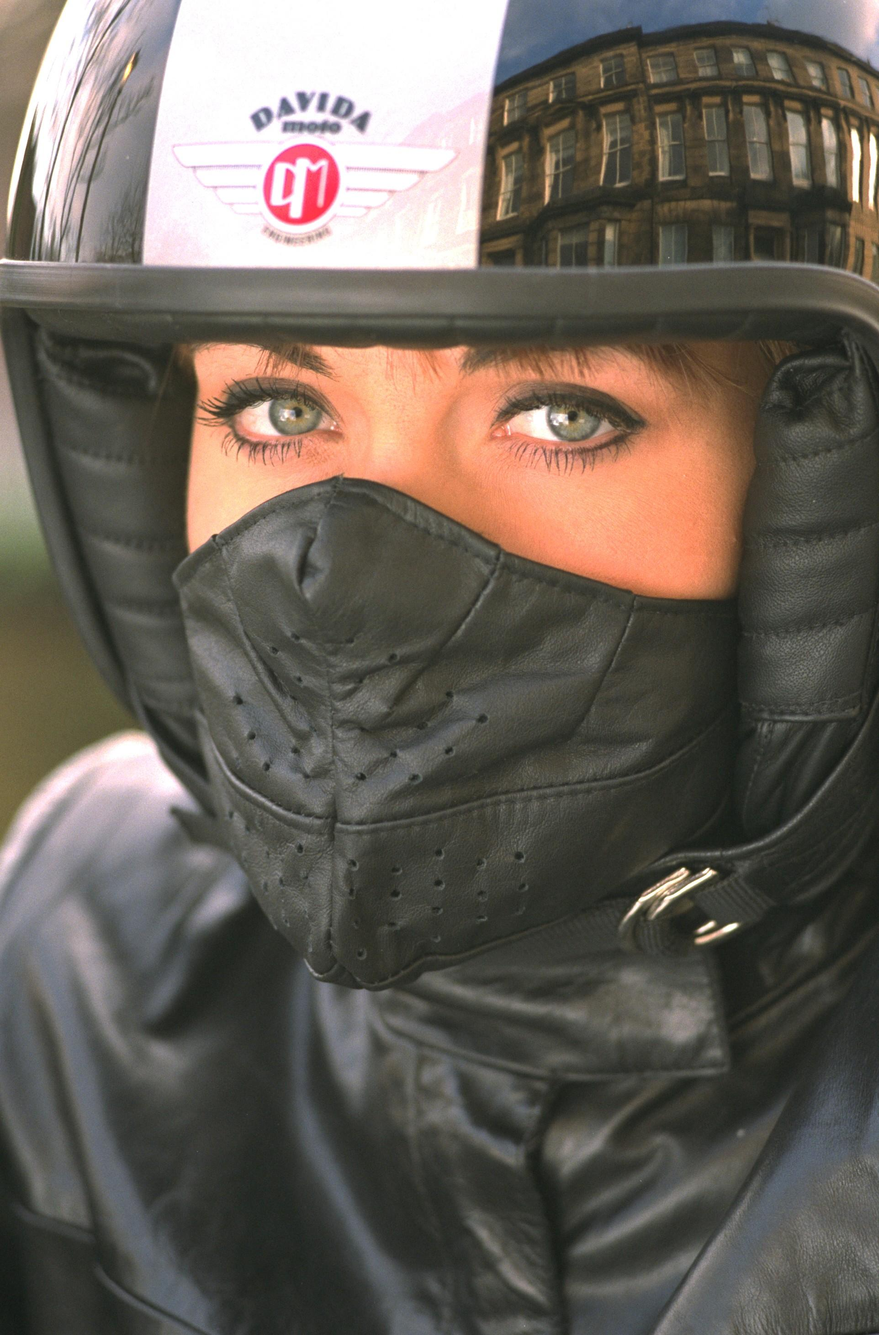Wearing Mask: (0, 0, 879, 1119)
